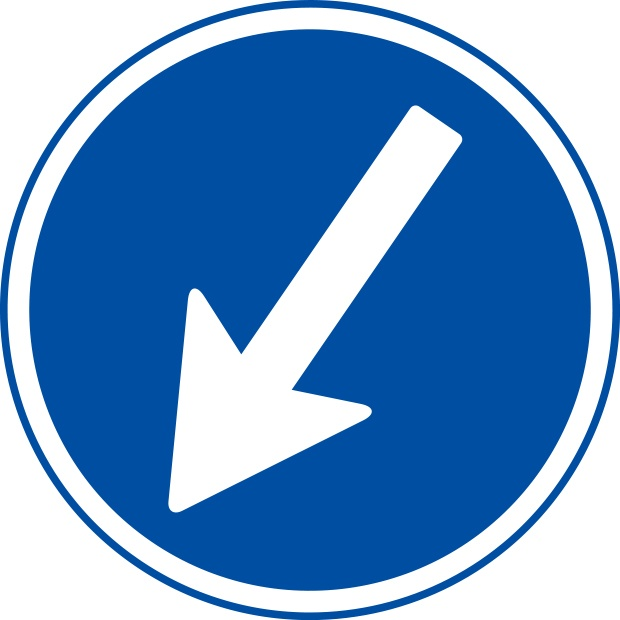Direction_sign: (6, 6, 619, 620)
